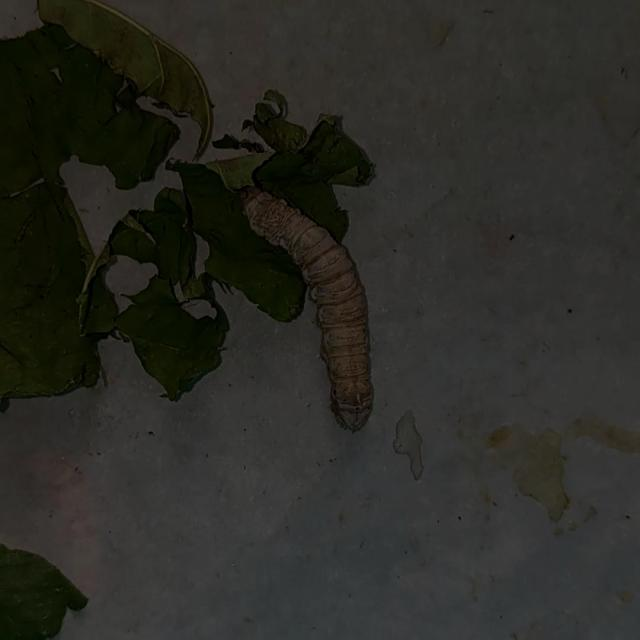Grasserie: (204, 172, 410, 436)
